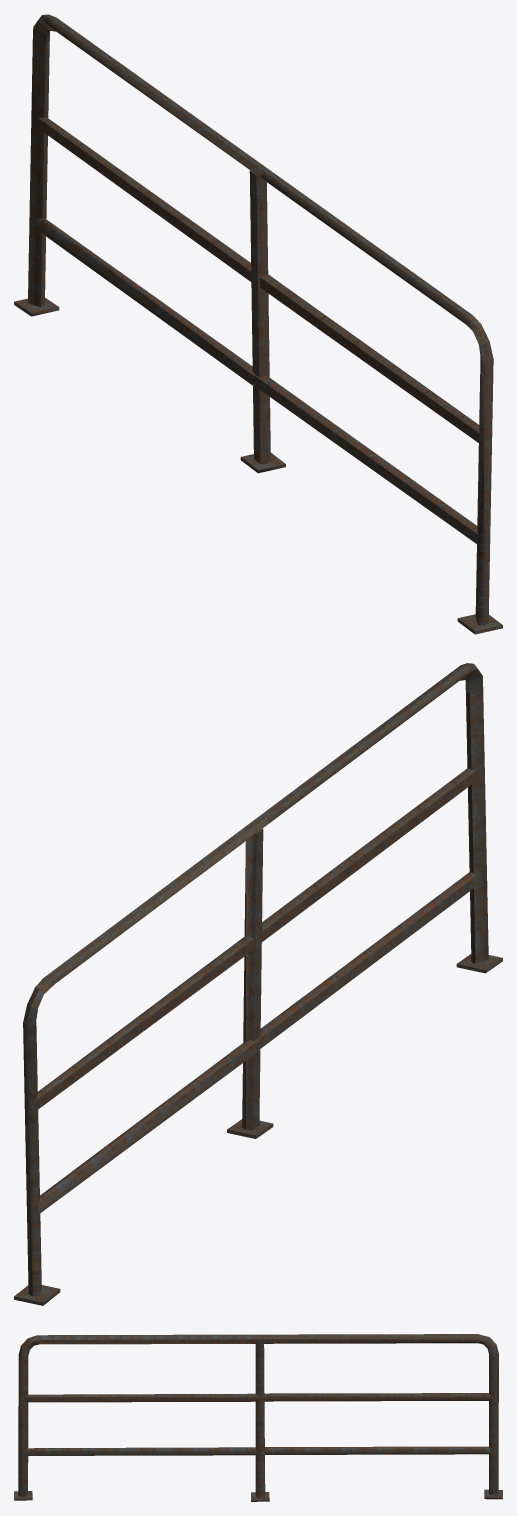
3 renders of one model, top to bottom at view 1: azimuth 30°, elevation 25°; view 2: azimuth 150°, elevation 25°; view 3: azimuth 270°, elevation 25°, orthographic. The views are drawn at different scales.
Parts seen in each view (by area): view 1: objDrawCal; view 2: objDrawCal; view 3: objDrawCal.
Boxes of the visible parts, x1,y1,x2,y2 form: objDrawCal: (14,14,502,634); objDrawCal: (14,663,502,1305); objDrawCal: (14,1334,502,1501).
Bounding box in the file's own units: 1.97 × 14.91 × 40.59.
Materials: 1 (1 with a texture image).
